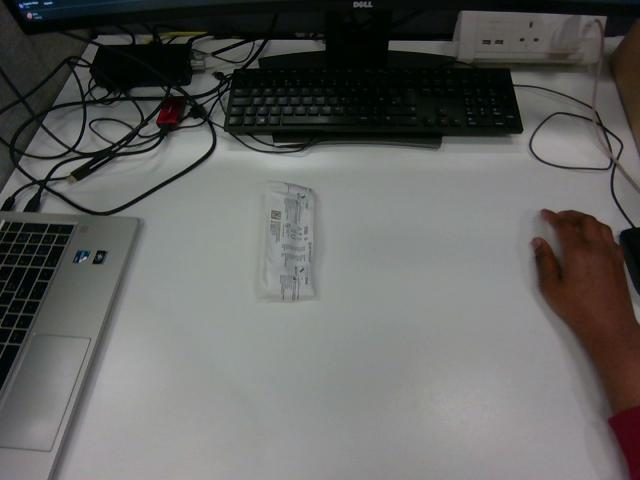syringe: (259, 182, 314, 301)
